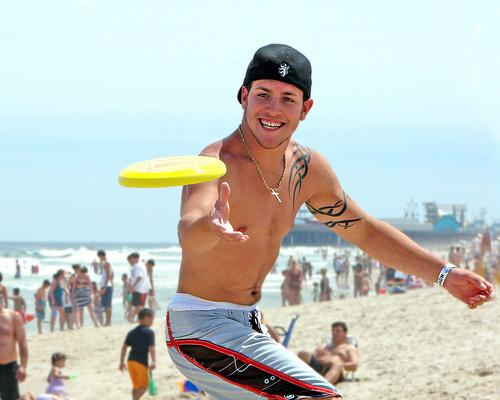person: (166, 46, 494, 400)
